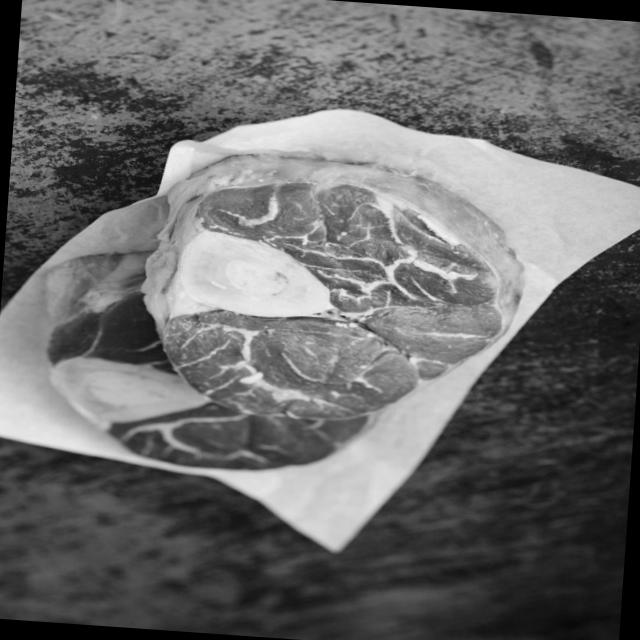chan gio: (137, 148, 531, 430), (38, 248, 404, 476)
